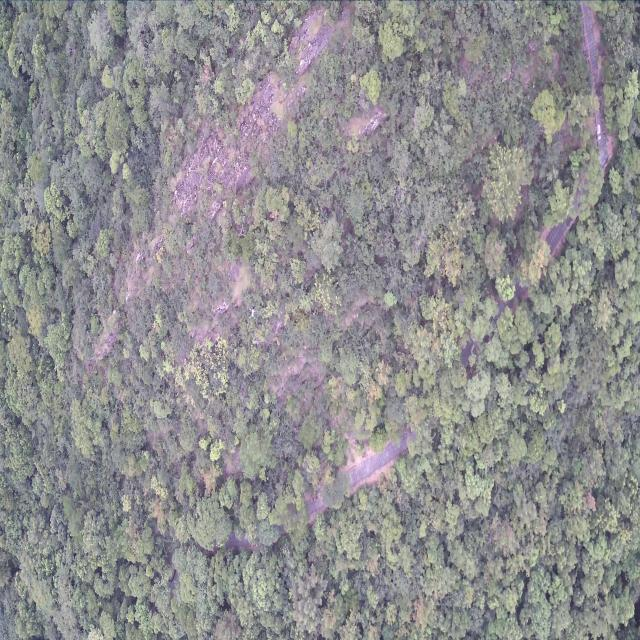drone: (249, 307, 257, 320)
